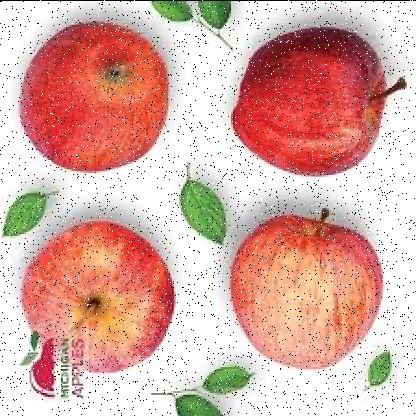apple: (20, 17, 178, 176), (232, 207, 386, 366), (233, 22, 381, 180), (24, 224, 164, 378)
